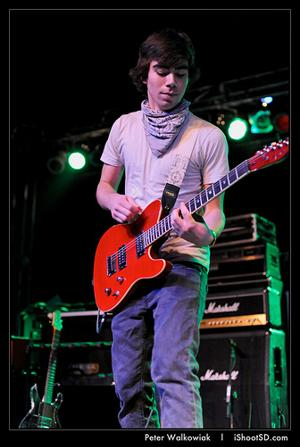person: (96, 29, 230, 429)
